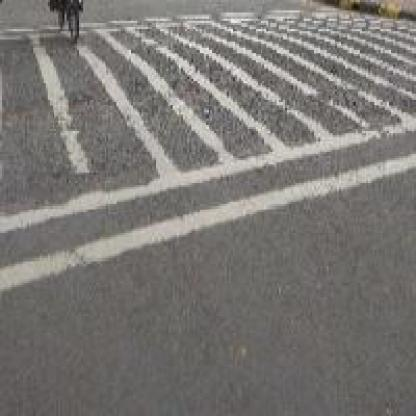Speed Bump: (0, 0, 412, 300)
